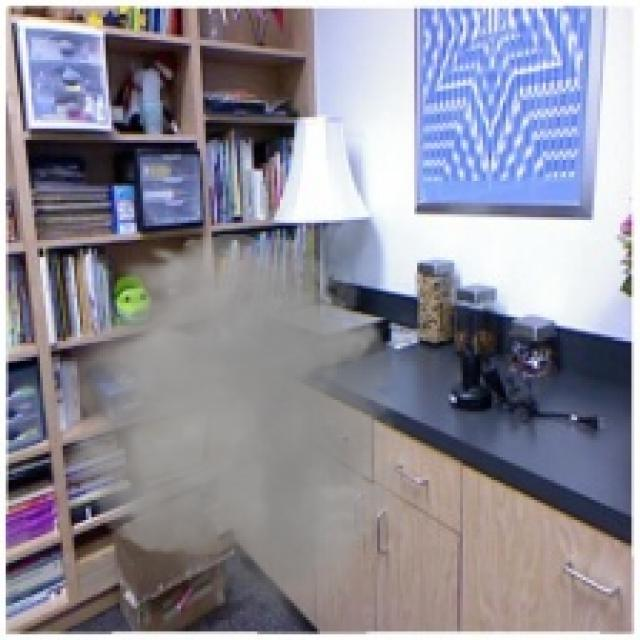smoke: (20, 223, 431, 634)
